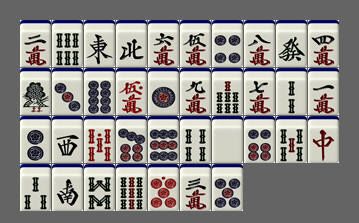0m: (116, 68, 147, 115)
0p: (148, 164, 179, 211)
0s: (84, 116, 115, 163)
1m: (308, 68, 339, 115)
1p: (148, 68, 179, 115)
1s: (20, 68, 51, 115)
1z: (84, 20, 115, 67)
2m: (20, 20, 51, 67)
2p: (20, 116, 51, 163)
2s: (276, 68, 307, 115)
2z: (52, 164, 83, 211)
3m: (180, 164, 211, 211)
3p: (52, 68, 83, 115)
3s: (20, 164, 51, 211)
3z: (52, 116, 83, 163)
4m: (308, 20, 339, 67)
4p: (212, 20, 243, 67)
4s: (180, 116, 211, 163)
4z: (116, 20, 147, 67)
5m: (180, 20, 211, 67)
5p: (212, 164, 243, 211)
5s: (276, 116, 307, 163)
5z: (212, 116, 243, 163)
6m: (148, 20, 179, 67)
6p: (244, 116, 275, 163)
6s: (52, 20, 83, 67)
6z: (276, 20, 307, 67)
7m: (244, 68, 275, 115)
7p: (116, 116, 147, 163)
7s: (212, 68, 243, 115)
7z: (308, 116, 339, 163)
8m: (244, 20, 275, 67)
8p: (84, 68, 115, 115)
8s: (84, 164, 115, 211)
9m: (180, 68, 211, 115)
9p: (148, 116, 179, 163)
9s: (116, 164, 147, 211)
